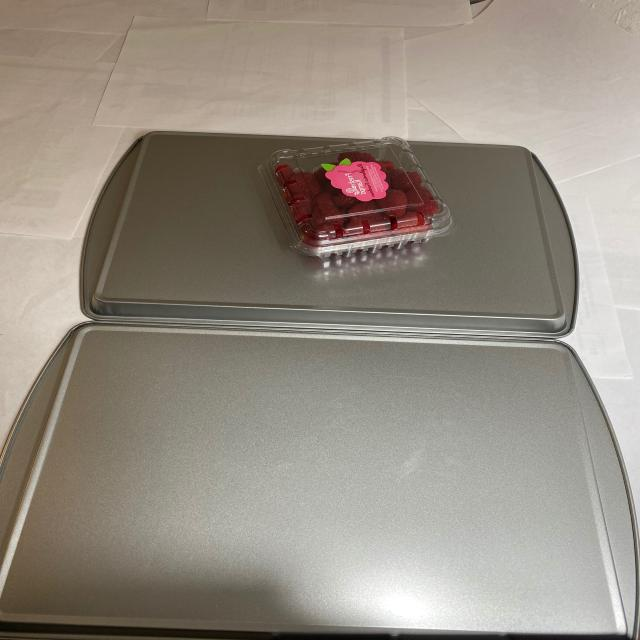raspberries: (279, 153, 441, 259)
